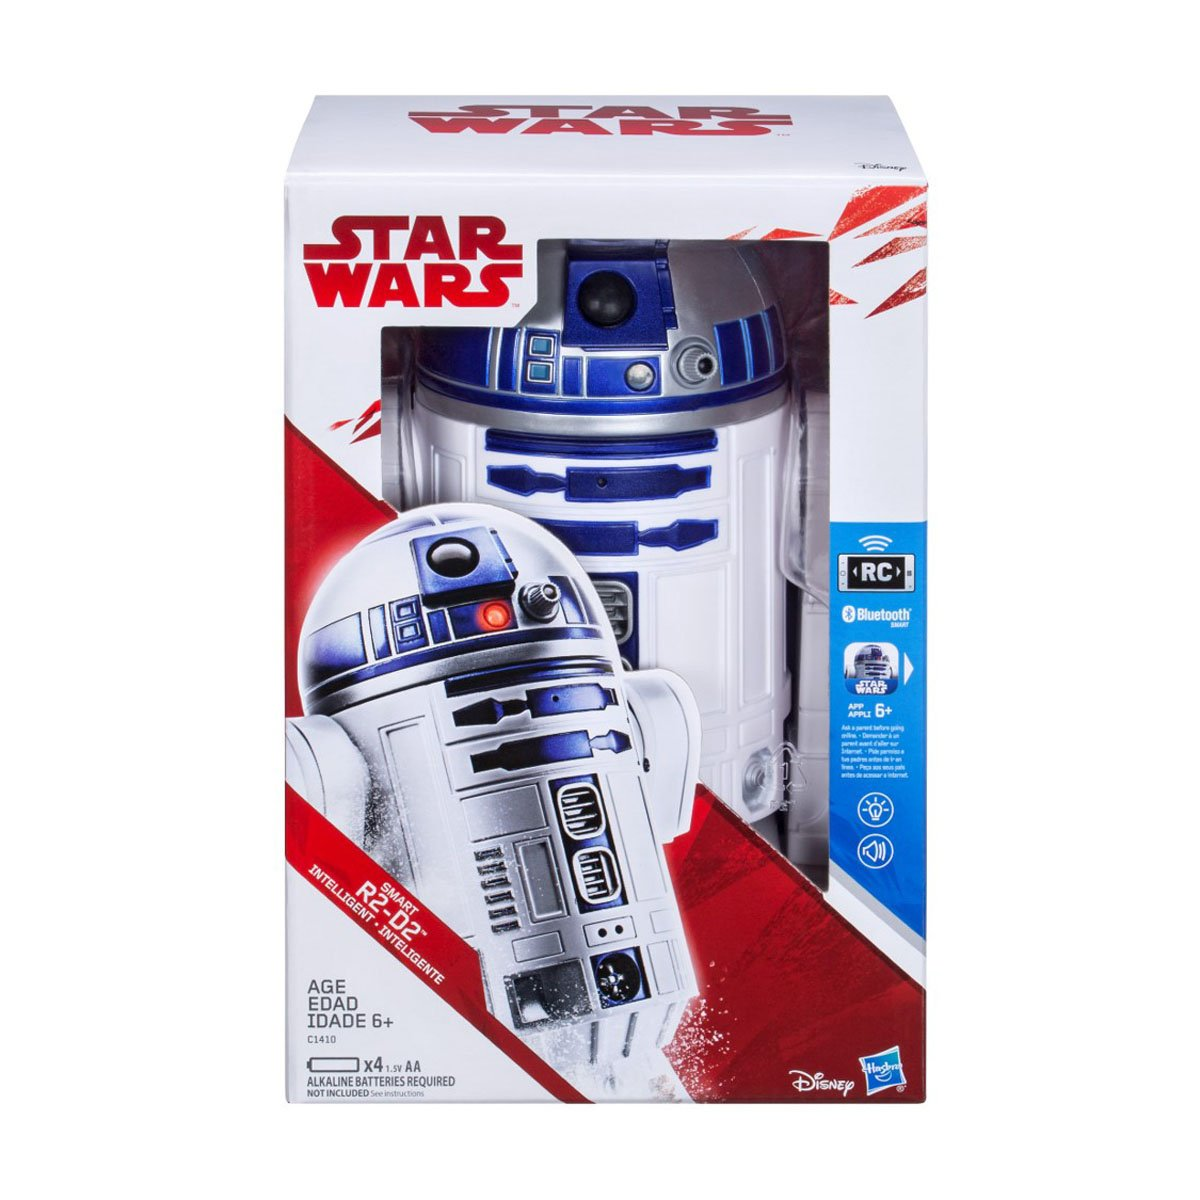r2d2: (300, 501, 699, 1030), (416, 240, 820, 522)
